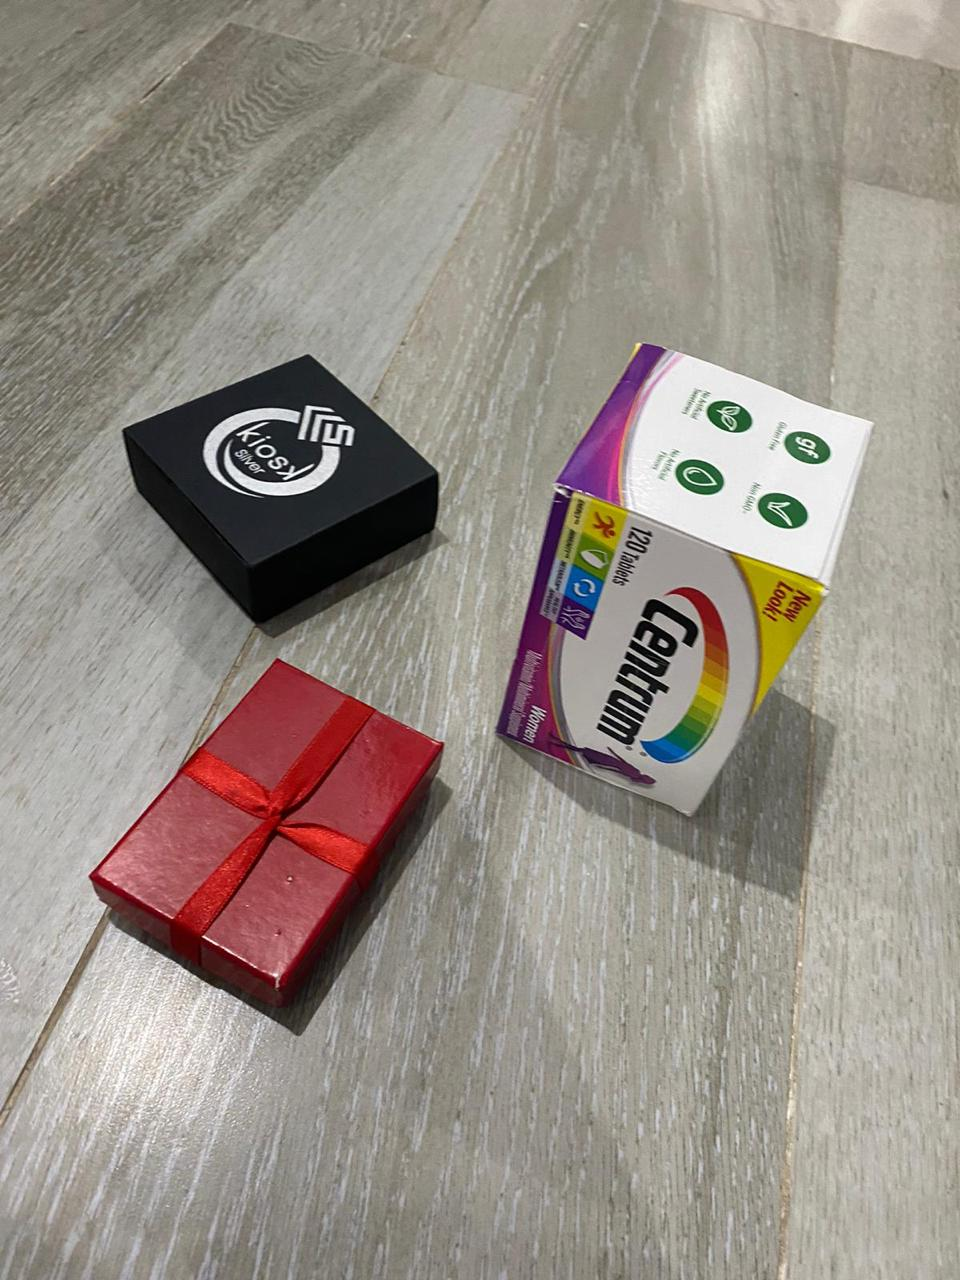Black Box: (83, 657, 453, 1033)
Centrum: (493, 344, 879, 820)
Red Box: (112, 348, 446, 633)
